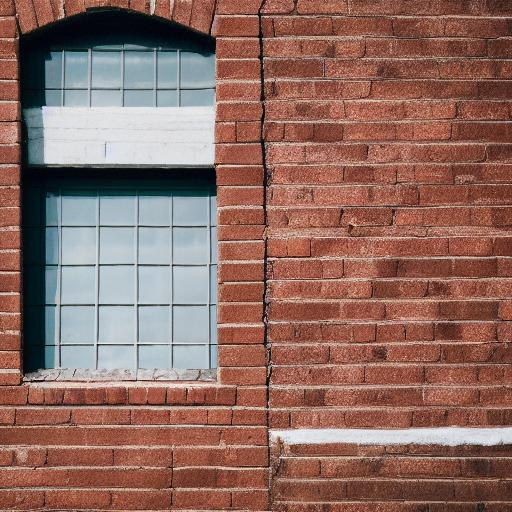Window: (18, 6, 226, 389)
